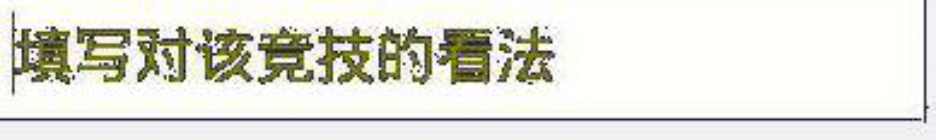EditText: (1, 1, 935, 139)
